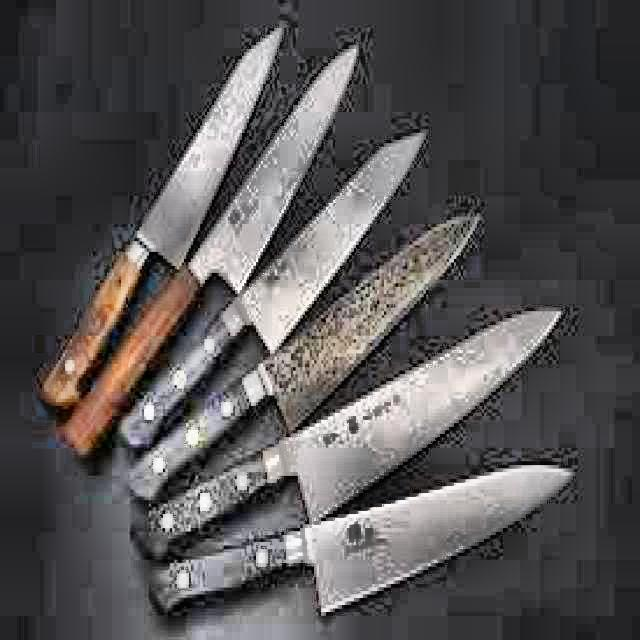knife: (63, 33, 364, 464), (158, 298, 576, 554), (117, 124, 434, 456), (148, 202, 489, 493), (45, 21, 288, 412), (167, 462, 577, 620)
